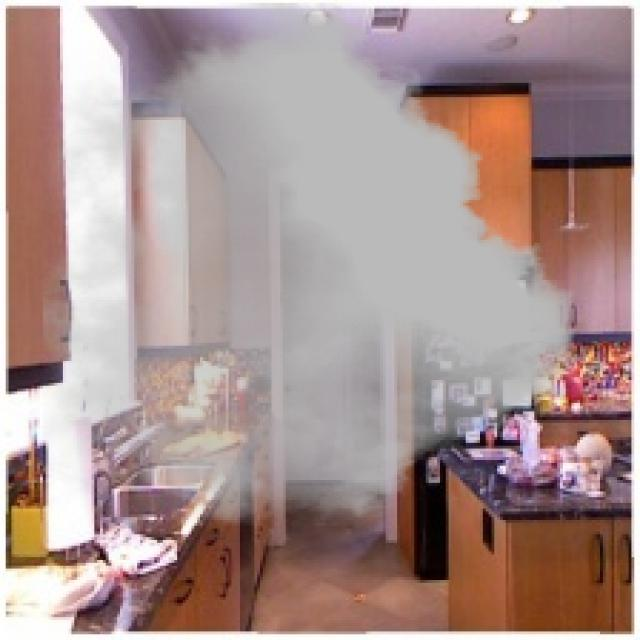smoke: (43, 3, 574, 526)
